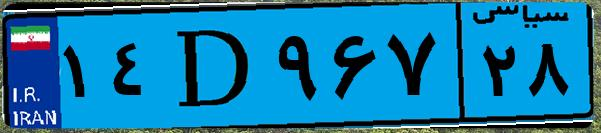1: (57, 26, 110, 100)
2: (475, 38, 525, 113)
4: (110, 28, 158, 98)
6: (330, 28, 385, 110)
7: (385, 28, 445, 110)
8: (525, 38, 570, 115)
9: (270, 28, 330, 110)
D: (158, 12, 270, 120)
